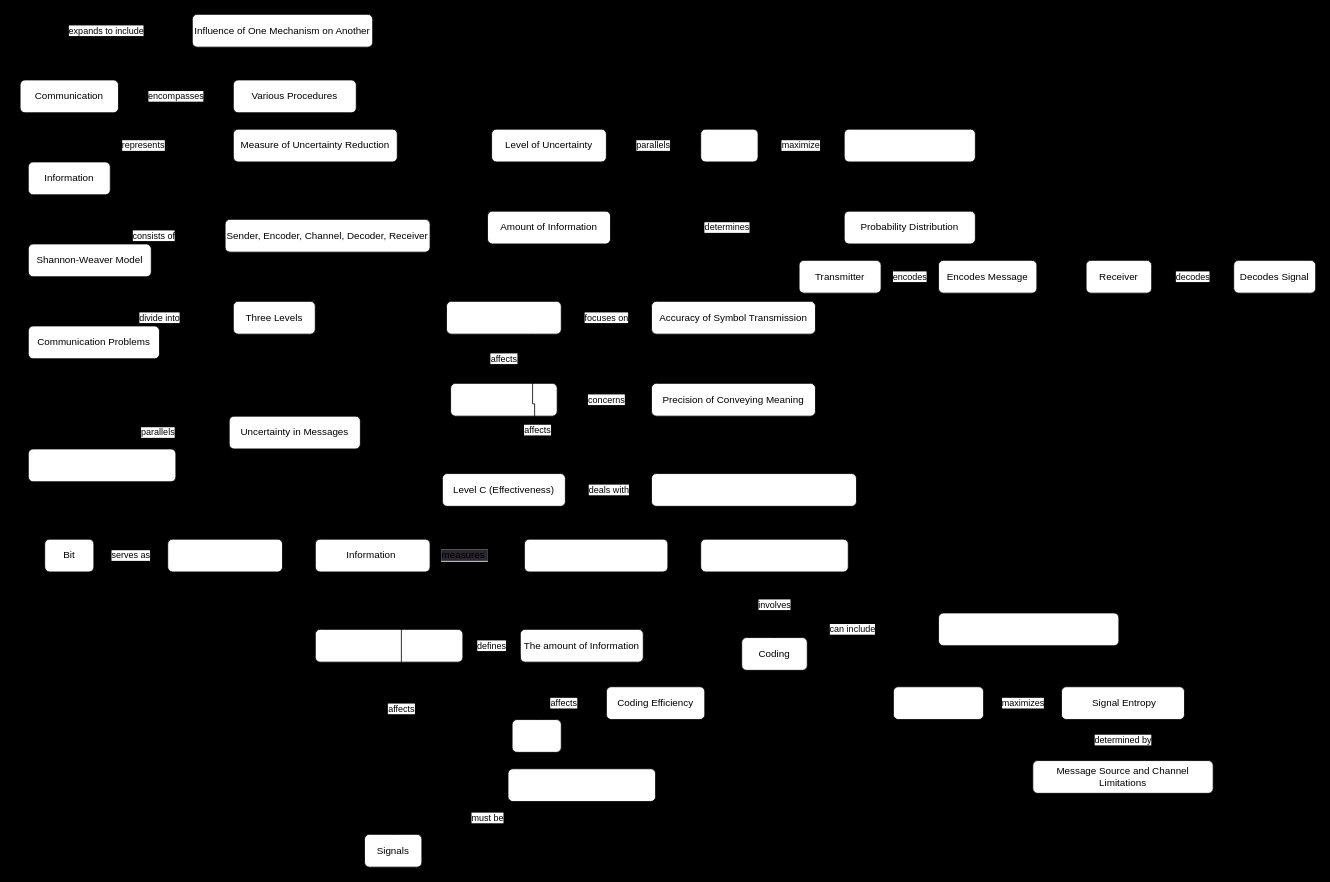
Image size: 1330x882. Some labels were removed from this diagram. The box of each missing label's shape, as (x1, y1, x2, y2) in pixels:
Compatibility with Channel: (507, 768, 656, 802)
Entropy: (700, 128, 758, 162)
Entropy in Information Theory: (27, 448, 176, 482)
Equally Probable Choices: (843, 128, 975, 162)
Freedom of Choice in selecting: (524, 538, 668, 572)
Impact of Received Meaning on Behavior: (651, 473, 856, 506)
Level A (Technical): (446, 301, 561, 334)
Level B (Semantic): (450, 383, 557, 416)
Noise: (511, 719, 561, 752)
Number of Available Choices: (314, 629, 463, 662)
Optimal Coding: (893, 686, 984, 720)
Sophisticated Operations like Encryption: (938, 612, 1119, 646)
Transformation of Messages: (700, 538, 848, 572)
Unit of Information: (167, 538, 282, 572)
